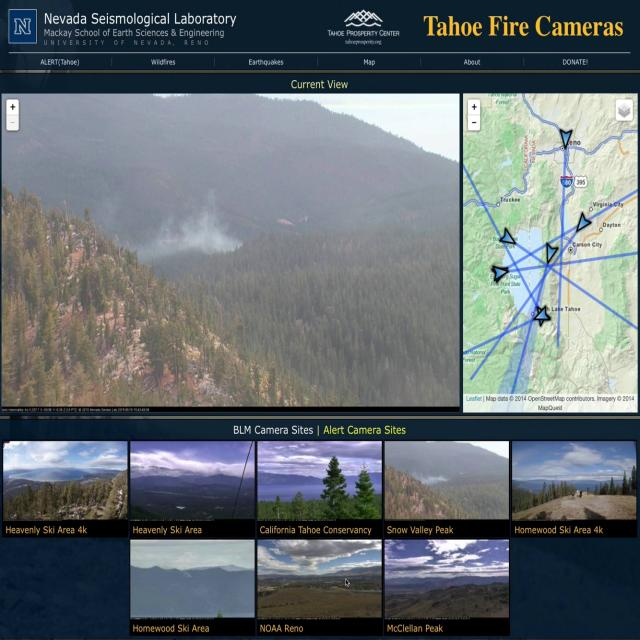smoke: (98, 180, 255, 254)
